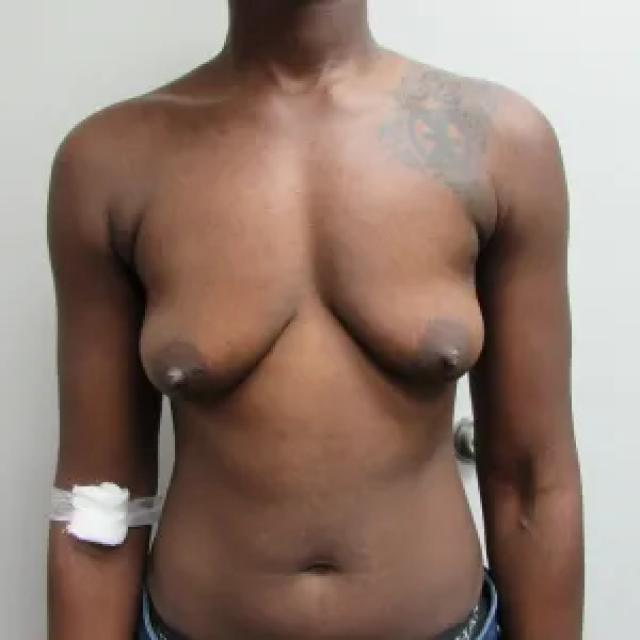Seno ileso: (132, 224, 307, 421), (313, 224, 492, 404)
